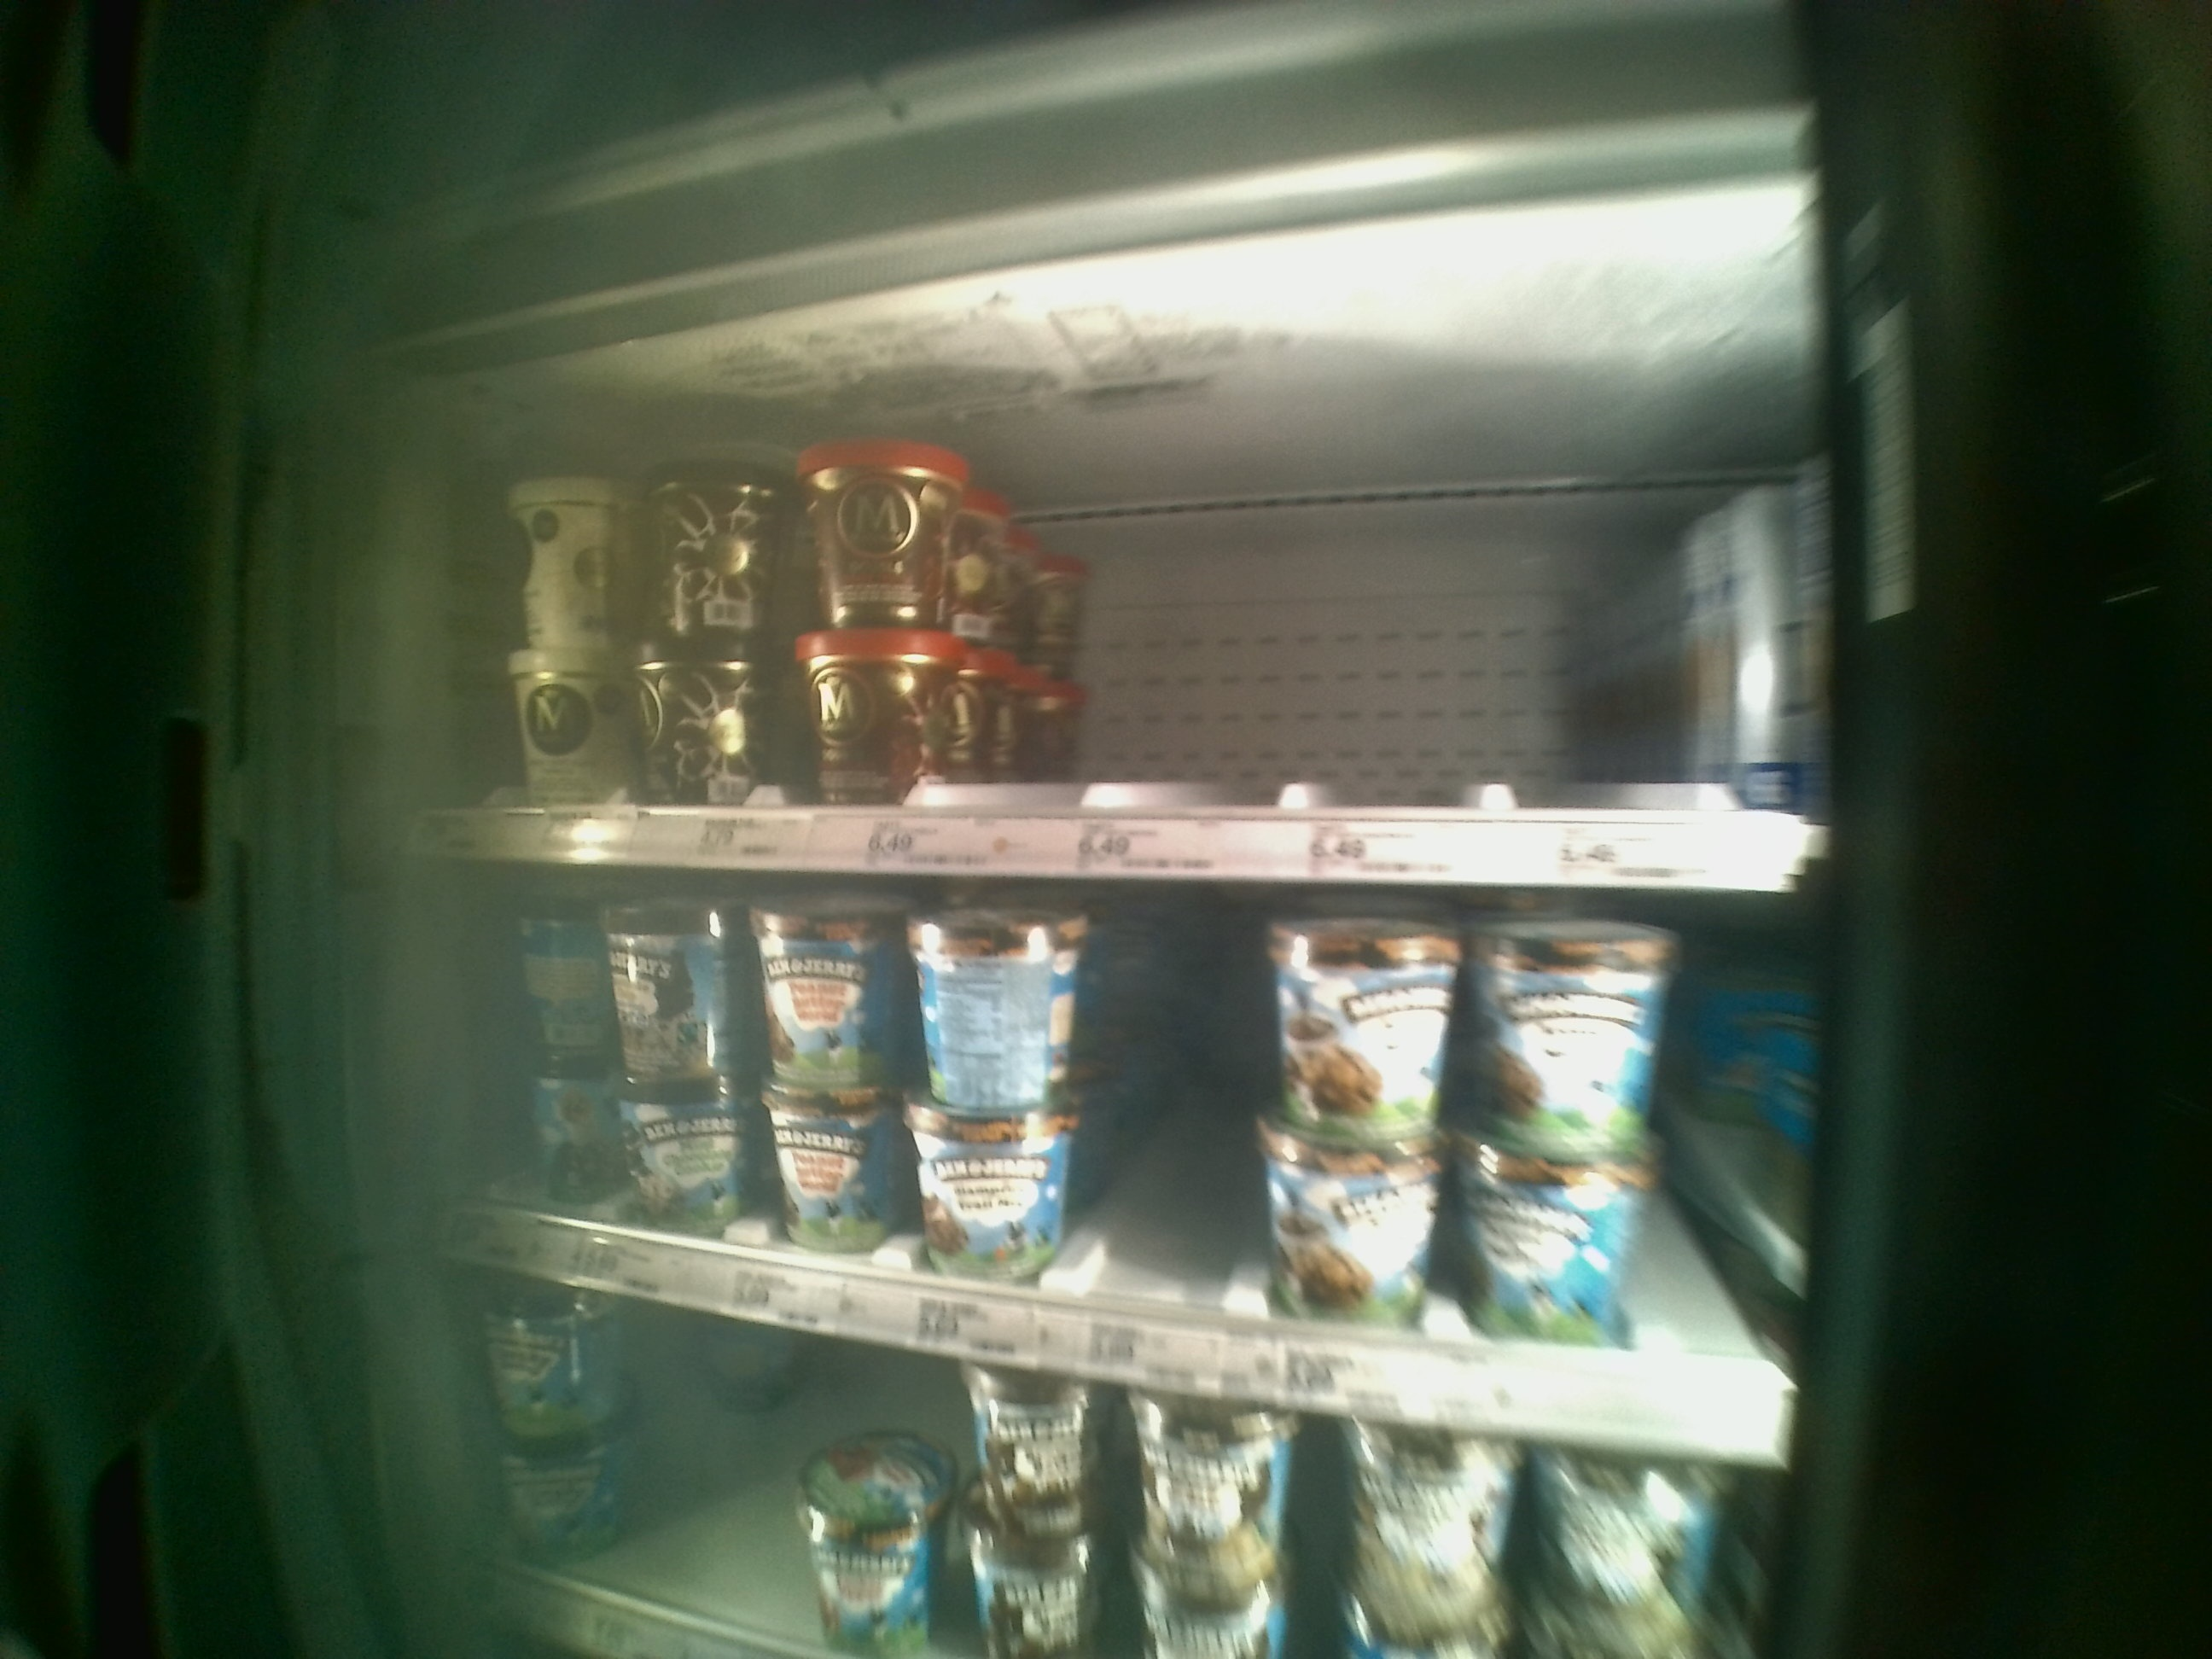shelf: (425, 868, 1822, 1464), (427, 342, 1846, 863)
